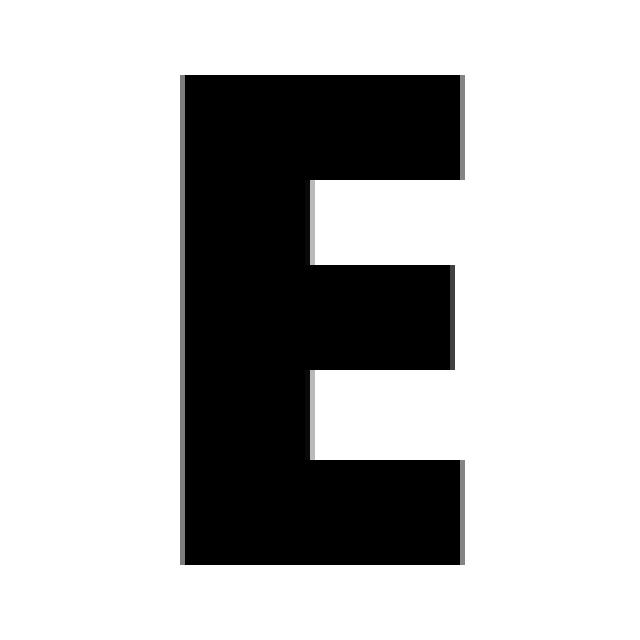E: (185, 75, 465, 565)
